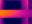Hotspot: (0, 10, 14, 17)
